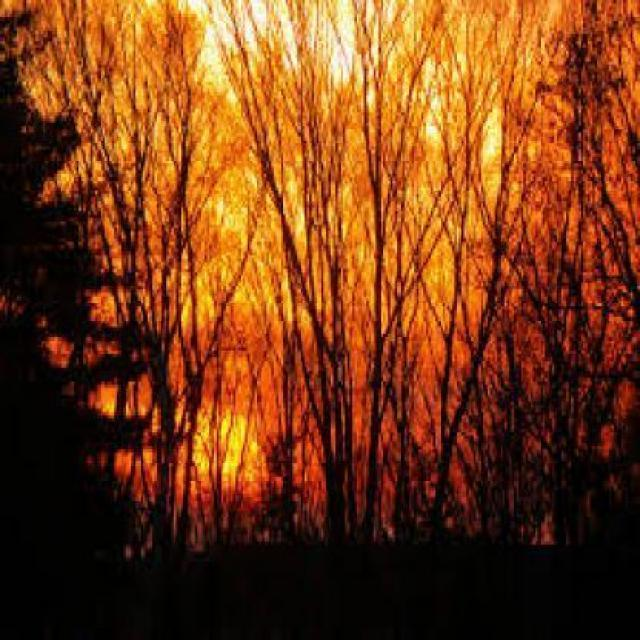Fire: (112, 0, 490, 506)
